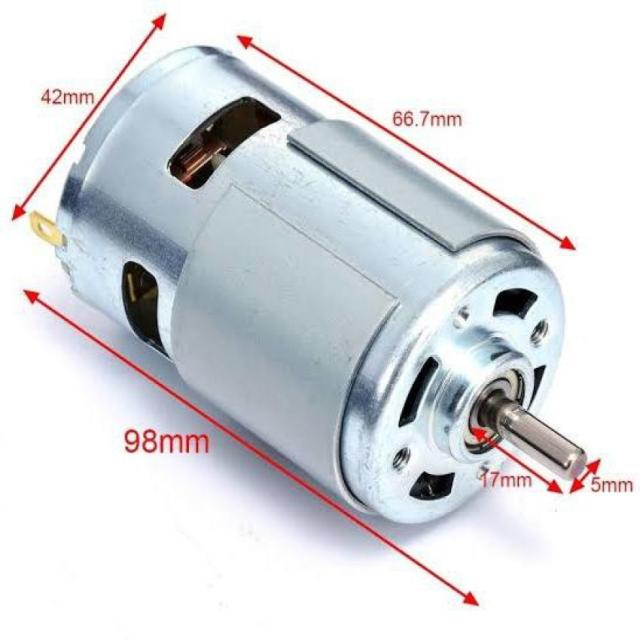motor: (15, 17, 599, 528)
